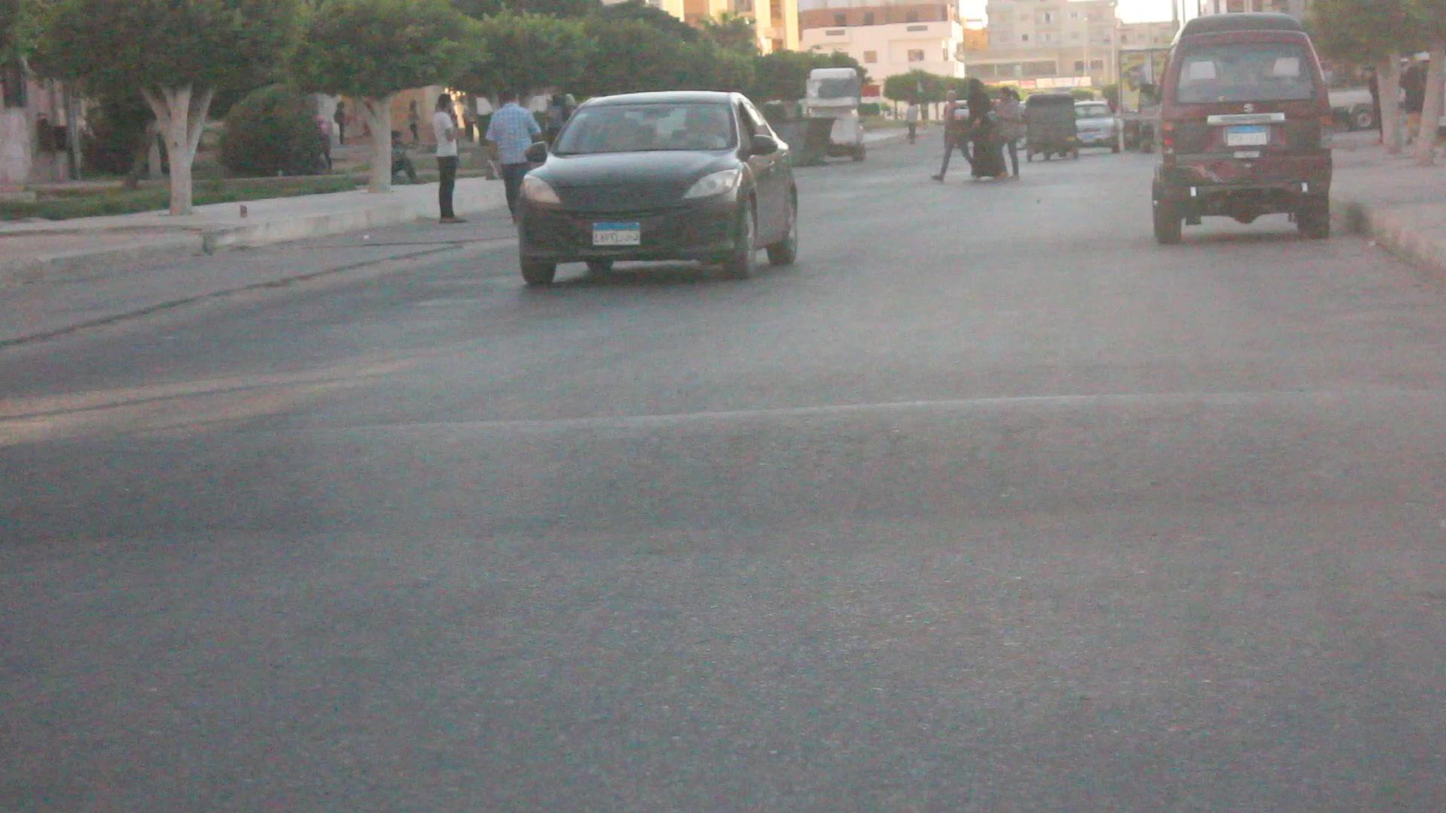Bump: (0, 382, 1445, 549)
